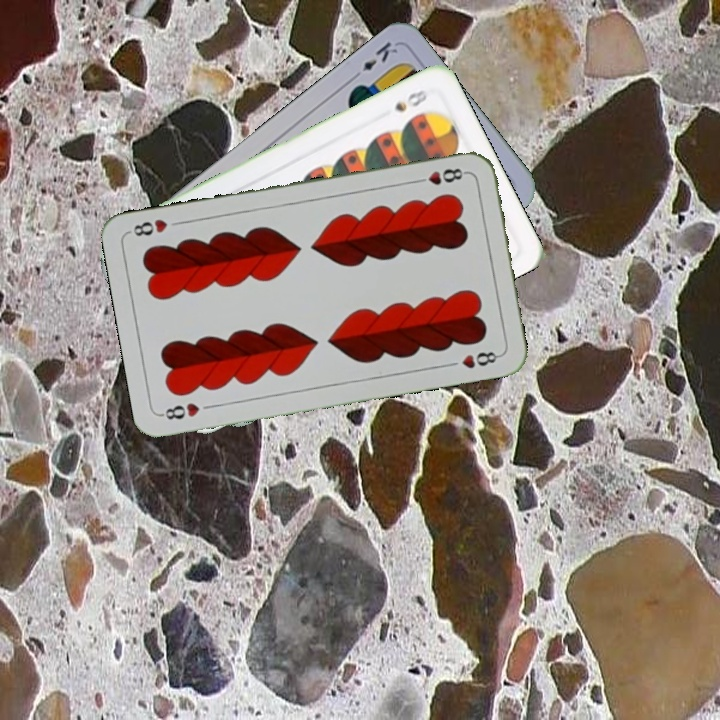EK: (347, 37, 401, 83)
H8: (411, 164, 470, 188), (158, 398, 216, 422)
S8: (390, 85, 430, 115)
